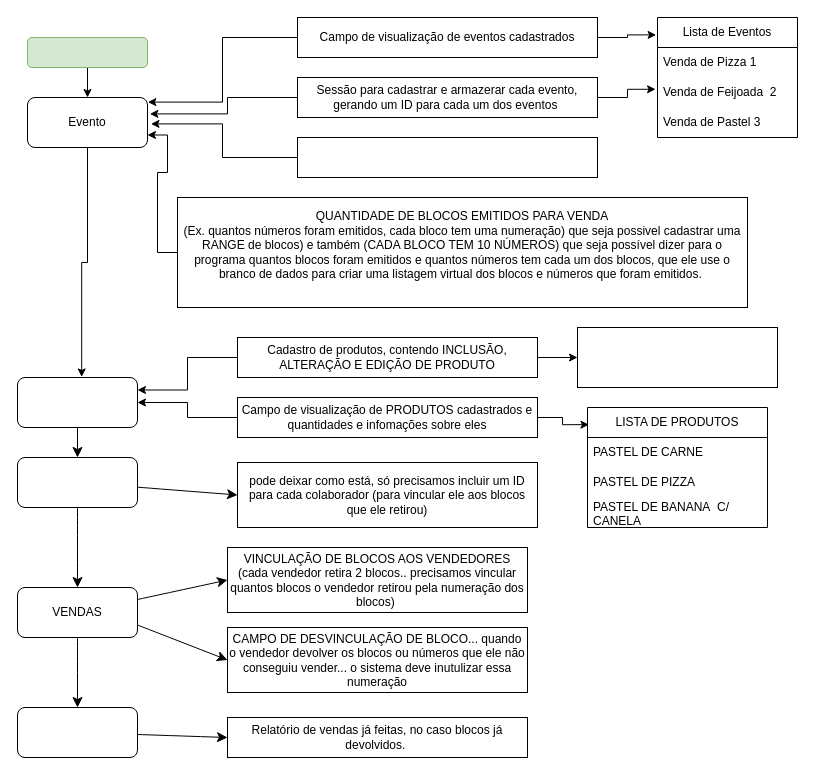
Some shapes in this 815 by 775 pixel diagram are drawn without their labels. The shapes that lost their labels are listed below. From the top down, each one's centre as x and y in pixels, then its label:
At [87,52]: "Sistema de vendas".
At [447,157]: "Botões para INCLUSÃO, ALTERAÇÃO E EDIÇÃO DE EVENTO".
At [677,357]: "Item, código, valor unitário, quantidade em estoque".
At [77,402]: "Produto".
At [77,482]: "Colaboradores".
At [77,732]: "RELATÓRIOS".
